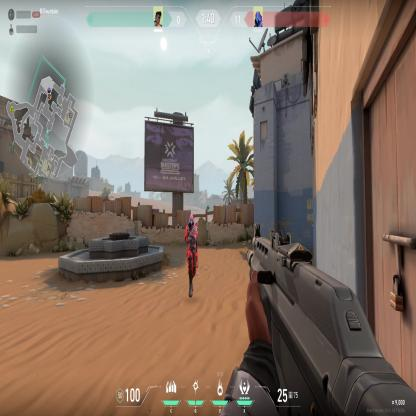enemy: (183, 212, 199, 300)
